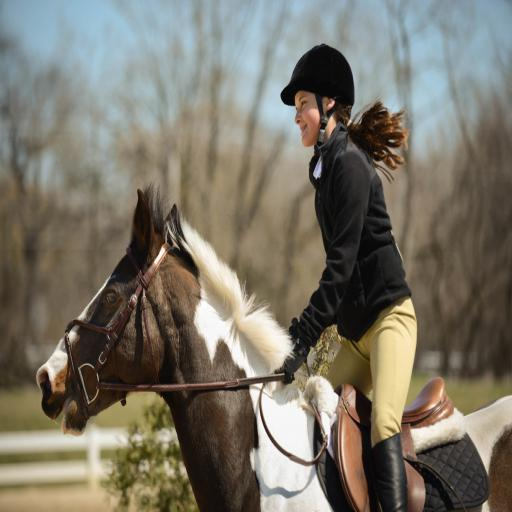horse: (35, 177, 512, 512)
